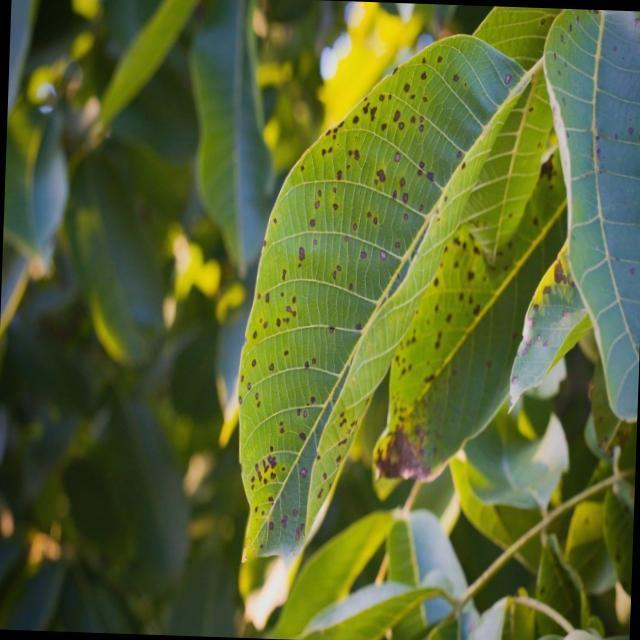Bacterial Spot: (240, 35, 492, 542), (537, 8, 640, 301)
